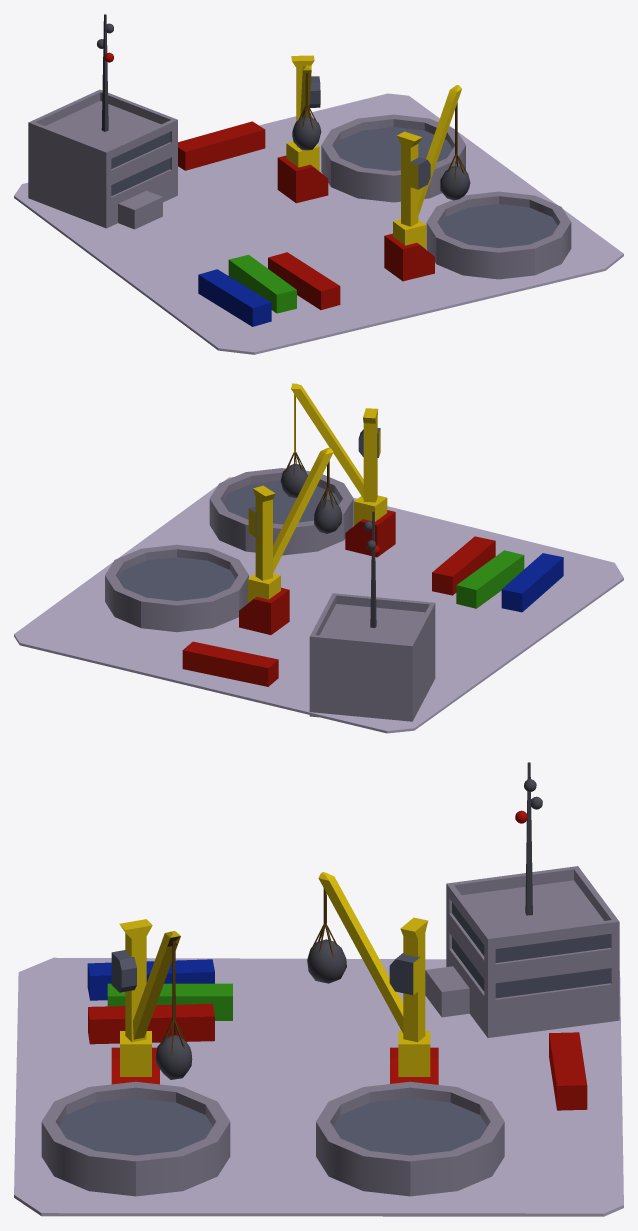
Rendered from fishing1.glb.
3 renders of one model, top to bottom at view 1: azimuth 30°, elevation 25°; view 2: azimuth 150°, elevation 25°; view 3: azimuth 270°, elevation 25°, orthographic. The views are drawn at different scales.
Parts seen in each view (by area): view 1: Cube.004, Cube.007, Cylinder.001, Cylinder, Cube.010, Cube.002, Cube.005, Cube.009, Cube.001, Cube.006, Cube.003, Cube.008 (+1 smaller); view 2: Cube.004, Cube.007, Cylinder, Cylinder.001, Cube.003, Cube.010, Cube.002, Cube.001, Cube.008, Cube.009, Cube.005, Cube.006 (+1 smaller); view 3: Cube.004, Cube.007, Cylinder.001, Cylinder, Cube.003, Cube.010, Cube.006, Cube.002, Cube.008, Cube.001, Cube.009, Cube.005 (+1 smaller).
Part boxes in pixels (<box>): Cube.004: <box>14,93,623,354</box>; Cube.007: <box>28,89,177,229</box>; Cylinder.001: <box>426,191,571,279</box>; Cylinder: <box>321,114,465,202</box>; Cube.010: <box>397,85,470,226</box>; Cube.002: <box>178,121,265,170</box>; Cube.005: <box>384,219,434,281</box>; Cube.009: <box>198,269,271,326</box>; Cube.001: <box>277,141,328,203</box>; Cube.006: <box>268,252,340,309</box>; Cube.003: <box>291,55,321,150</box>; Cube.008: <box>228,254,296,313</box>; Cube.004: <box>14,477,623,733</box>; Cube.007: <box>309,593,435,721</box>; Cylinder: <box>105,544,248,632</box>; Cylinder.001: <box>209,468,353,555</box>; Cube.003: <box>248,447,341,580</box>; Cube.010: <box>280,383,380,502</box>; Cube.002: <box>182,641,278,686</box>; Cube.001: <box>239,573,289,634</box>; Cube.008: <box>456,550,524,608</box>; Cube.009: <box>501,553,563,612</box>; Cube.005: <box>345,495,395,557</box>; Cube.006: <box>432,536,495,595</box>; Cube.004: <box>14,957,623,1216</box>; Cube.007: <box>425,866,619,1037</box>; Cylinder.001: <box>41,1081,230,1196</box>; Cylinder: <box>316,1081,504,1196</box>; Cube.003: <box>307,872,427,1042</box>; Cube.010: <box>111,919,192,1079</box>; Cube.006: <box>88,1003,214,1044</box>; Cube.002: <box>549,1032,587,1110</box>; Cube.008: <box>107,983,232,1020</box>; Cube.001: <box>390,1031,438,1084</box>; Cube.009: <box>87,959,214,1000</box>; Cube.005: <box>111,1031,159,1084</box>.
Bounding box in the file's own units: 1.5 × 0.6684 × 1.51.
